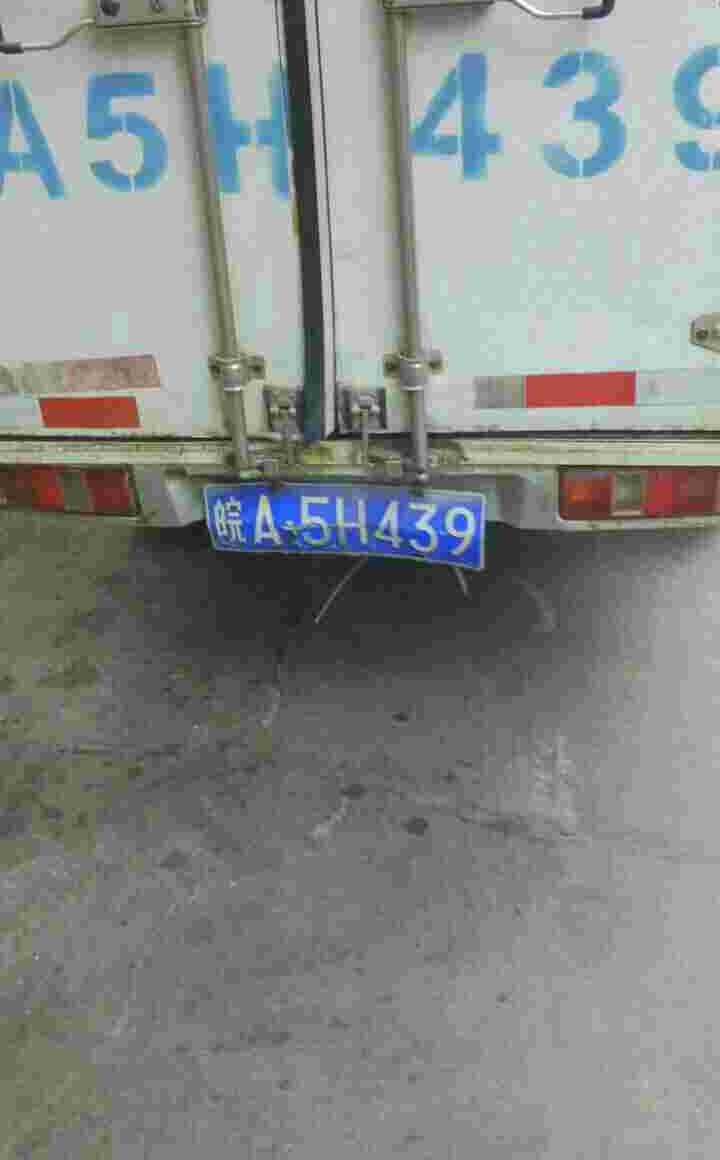plate: (207, 476, 492, 570)
